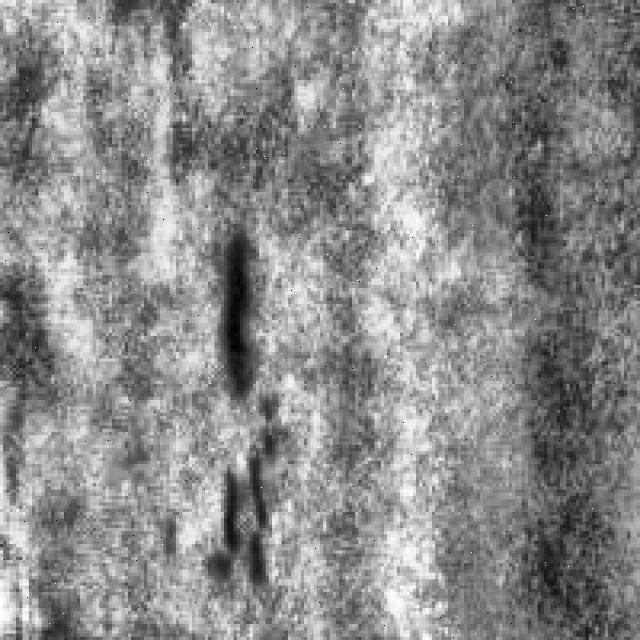Patches: (205, 214, 269, 403), (218, 428, 288, 598)
